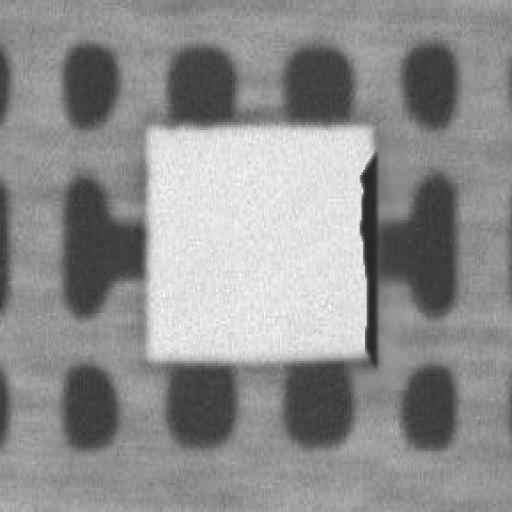DIE_BROKEN: (354, 144, 378, 356)
